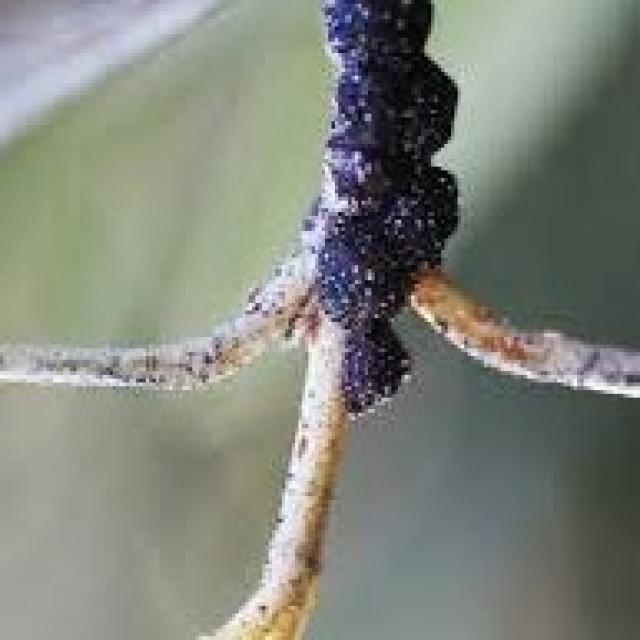Black Scale: (315, 0, 454, 413)
